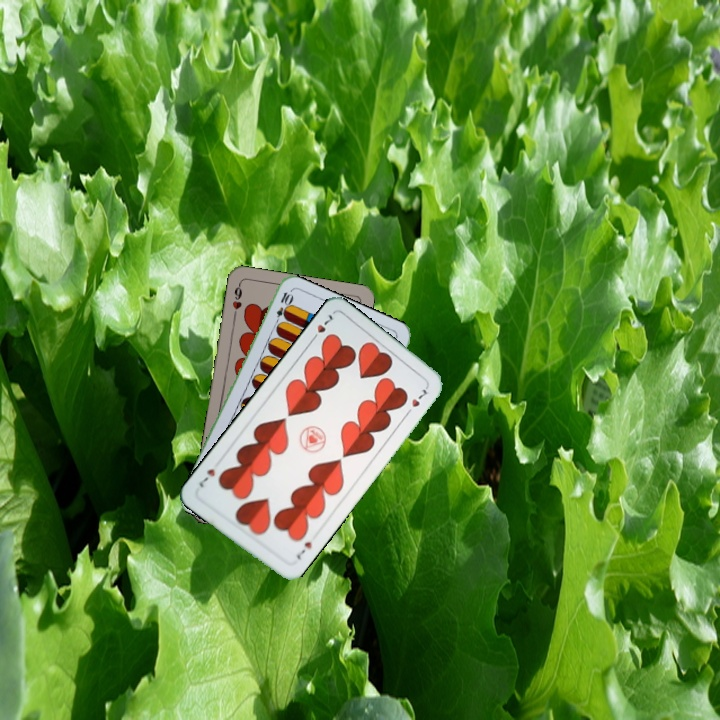E10: (271, 288, 294, 328)
H7: (307, 310, 338, 344), (292, 537, 315, 562)
H9: (228, 280, 245, 321)
